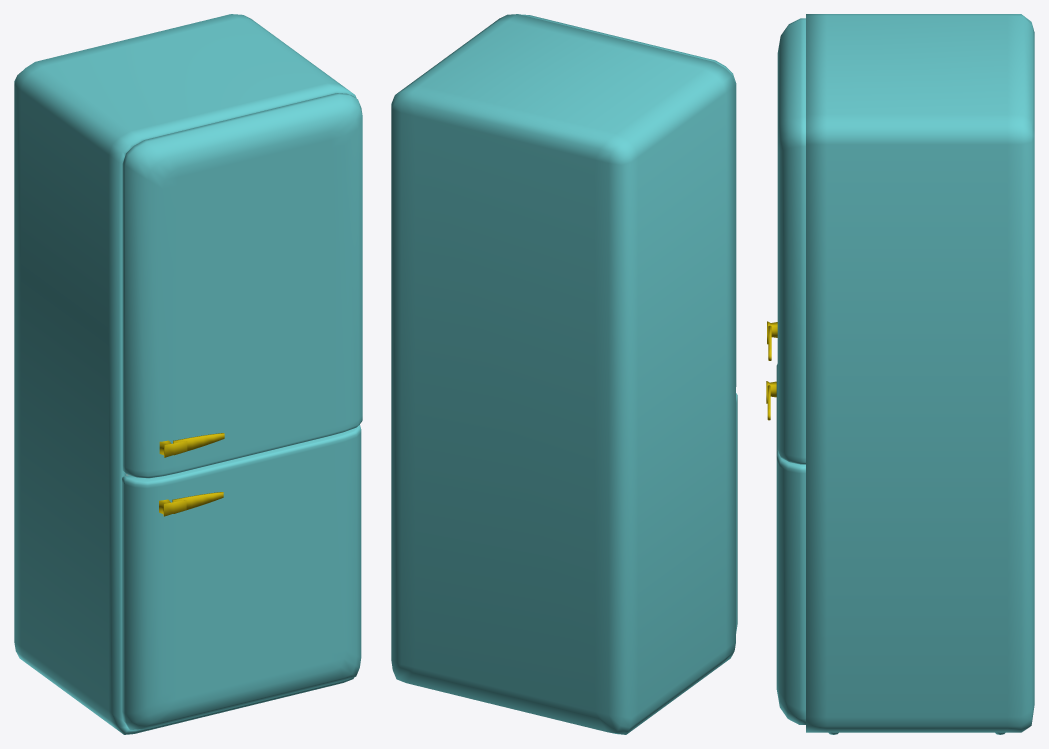
Rendered from kitchen_fridge.fbx.
3 renders of one model, left to right at view 1: azimuth 30°, elevation 25°; view 2: azimuth 150°, elevation 25°; view 3: azimuth 270°, elevation 25°, orthographic. The views are drawn at different scales.
Visible parts, largest first — view 1: HSHP_MOD_Fridge, HSH_MOD_Fridge_door_01, HSH_MOD_Fridge_door_02; view 2: HSHP_MOD_Fridge, HSH_MOD_Fridge_door_01; view 3: HSHP_MOD_Fridge, HSH_MOD_Fridge_door_01, HSH_MOD_Fridge_door_02.
Boxes of the visible parts, x1=… form: HSHP_MOD_Fridge: x1=14, y1=14, x2=356, y2=734; HSH_MOD_Fridge_door_01: x1=122, y1=93, x2=362, y2=478; HSH_MOD_Fridge_door_02: x1=122, y1=424, x2=361, y2=729; HSHP_MOD_Fridge: x1=391, y1=14, x2=735, y2=734; HSH_MOD_Fridge_door_01: x1=520, y1=14, x2=736, y2=386; HSHP_MOD_Fridge: x1=806, y1=14, x2=1034, y2=734; HSH_MOD_Fridge_door_01: x1=767, y1=18, x2=805, y2=464; HSH_MOD_Fridge_door_02: x1=766, y1=364, x2=805, y2=724.
Size of the model in its own units: 22.35 by 53.38 by 21.01.
